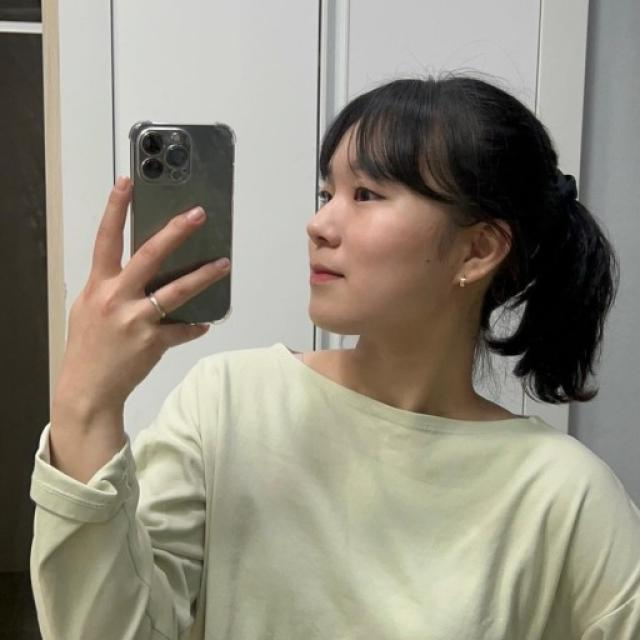mobile: (124, 118, 235, 310)
